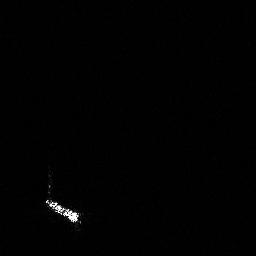ship: (42, 195, 83, 226)
